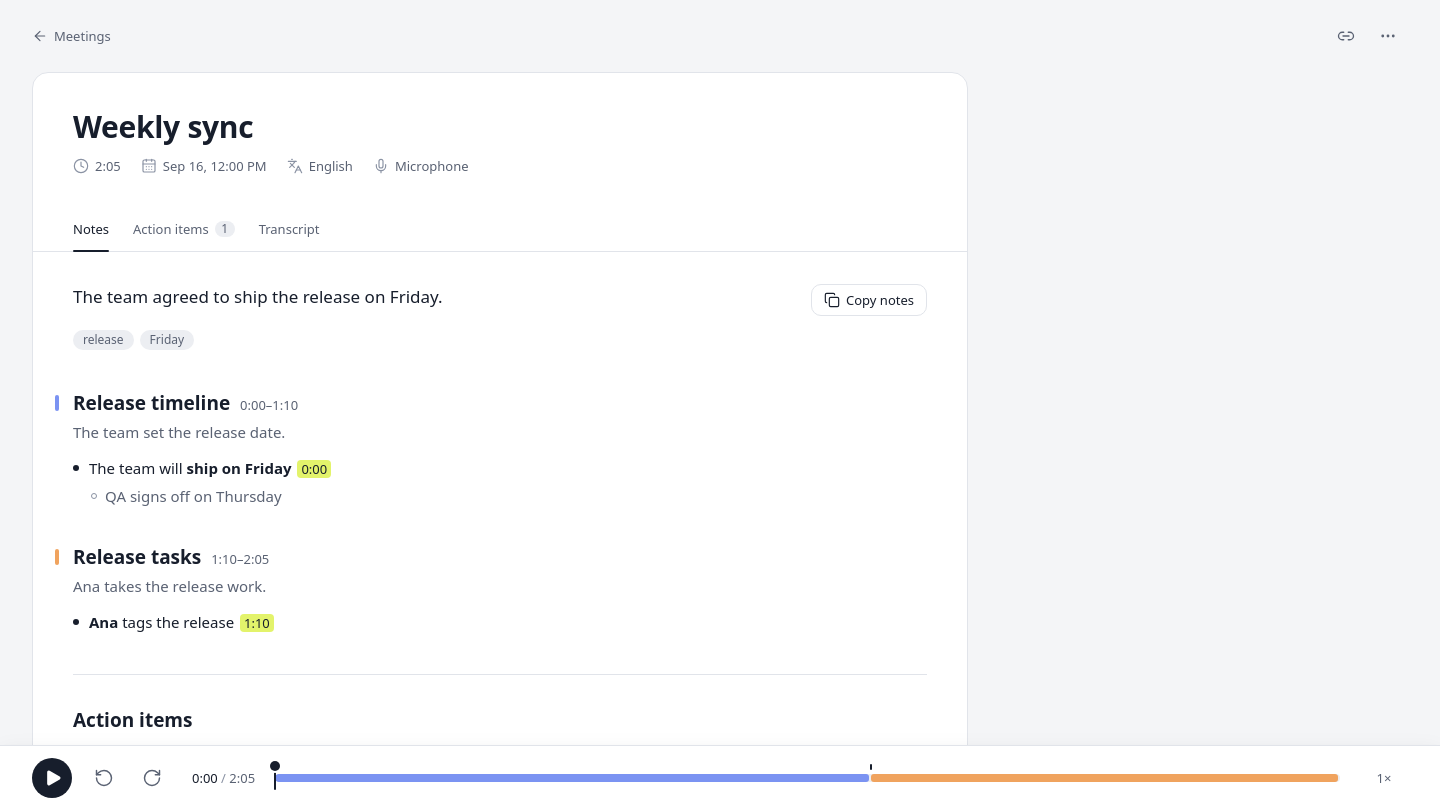
Scenario: MeetingPage › delete › shows a failed delete and stays on the page
Click the button named "More actions".
click(1388, 36)  # box [1368,16,1408,56]
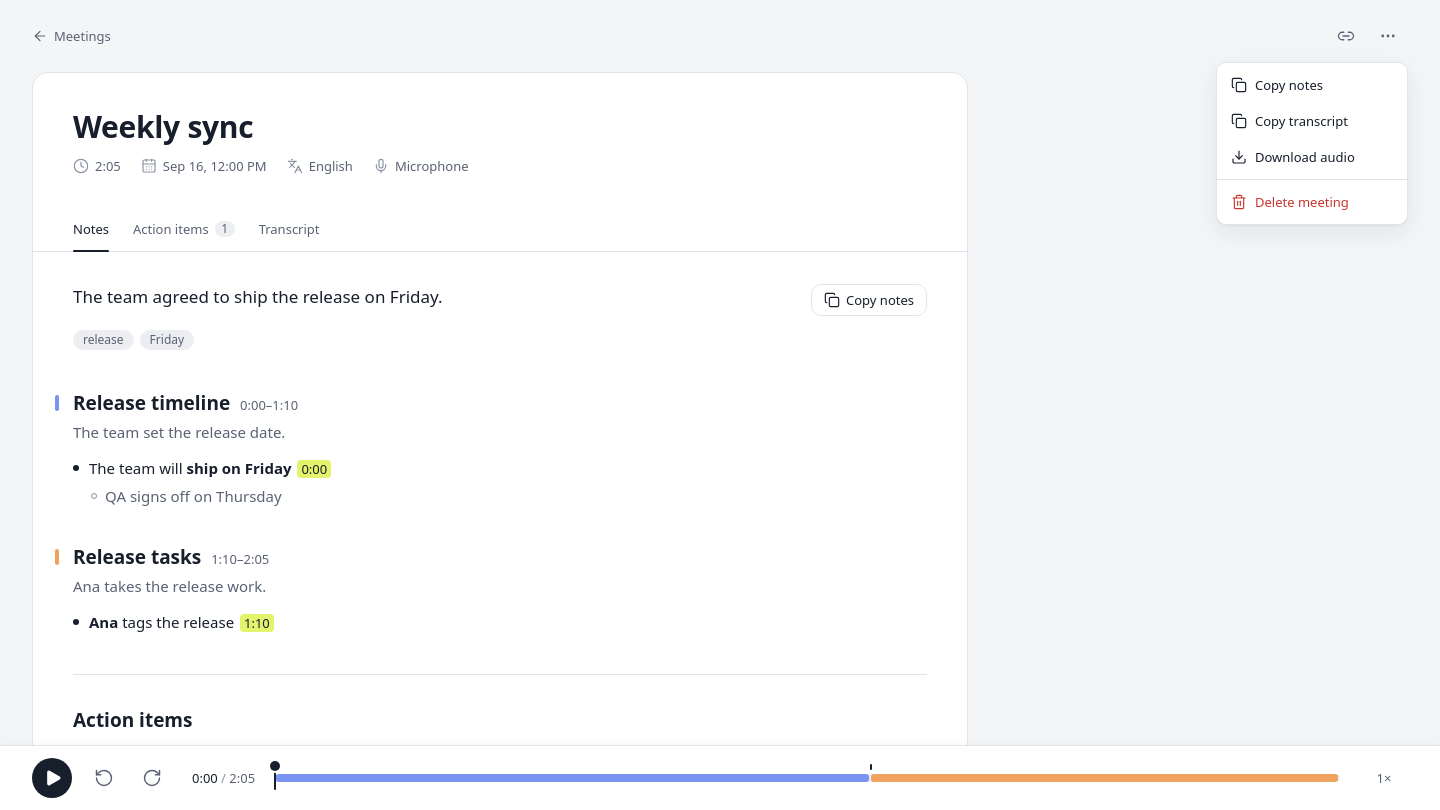
Click the menu item "Delete meeting".
click(1290, 202)  # box [1231,193,1349,211]
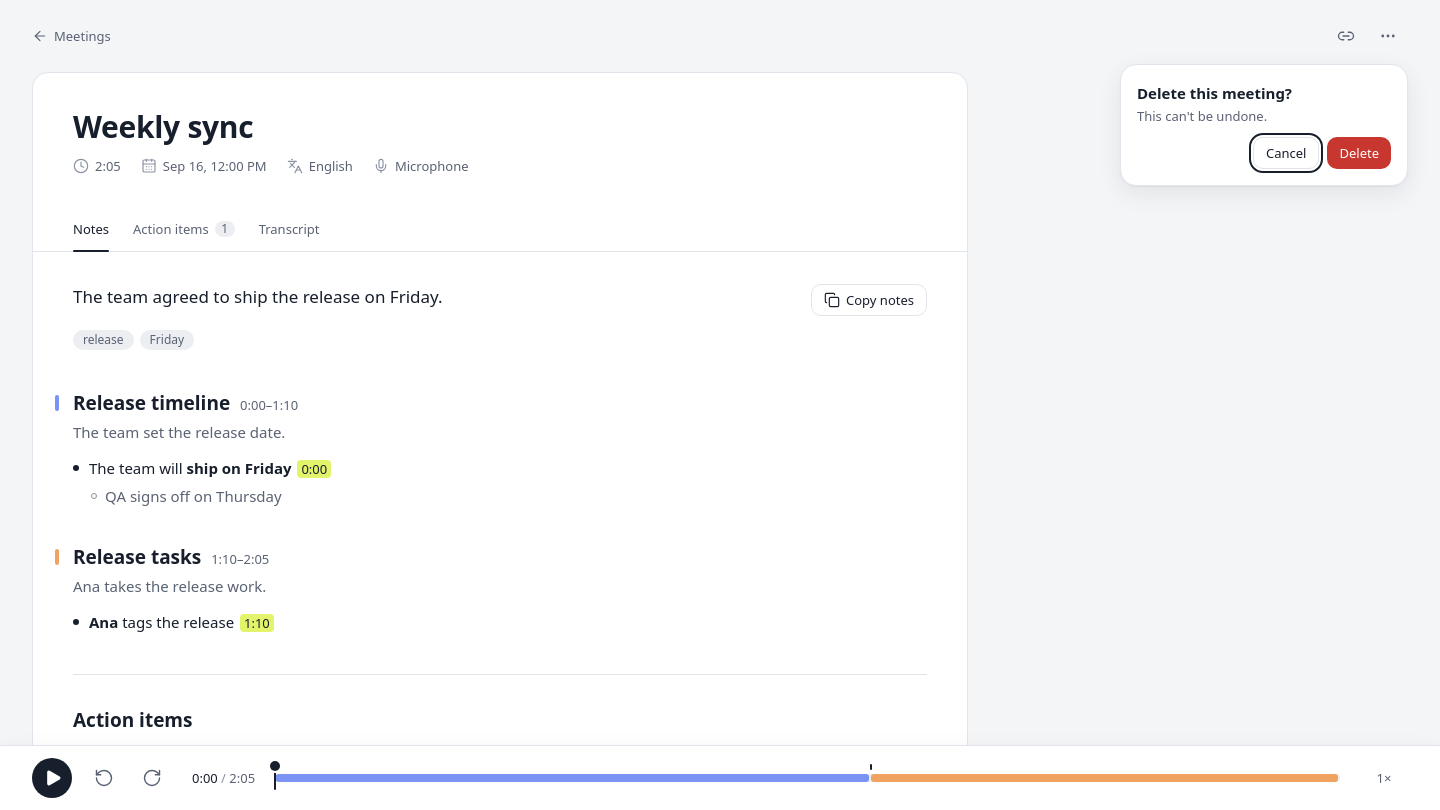
Click the button "Delete".
click(1359, 153)  # box [1328,137,1391,169]
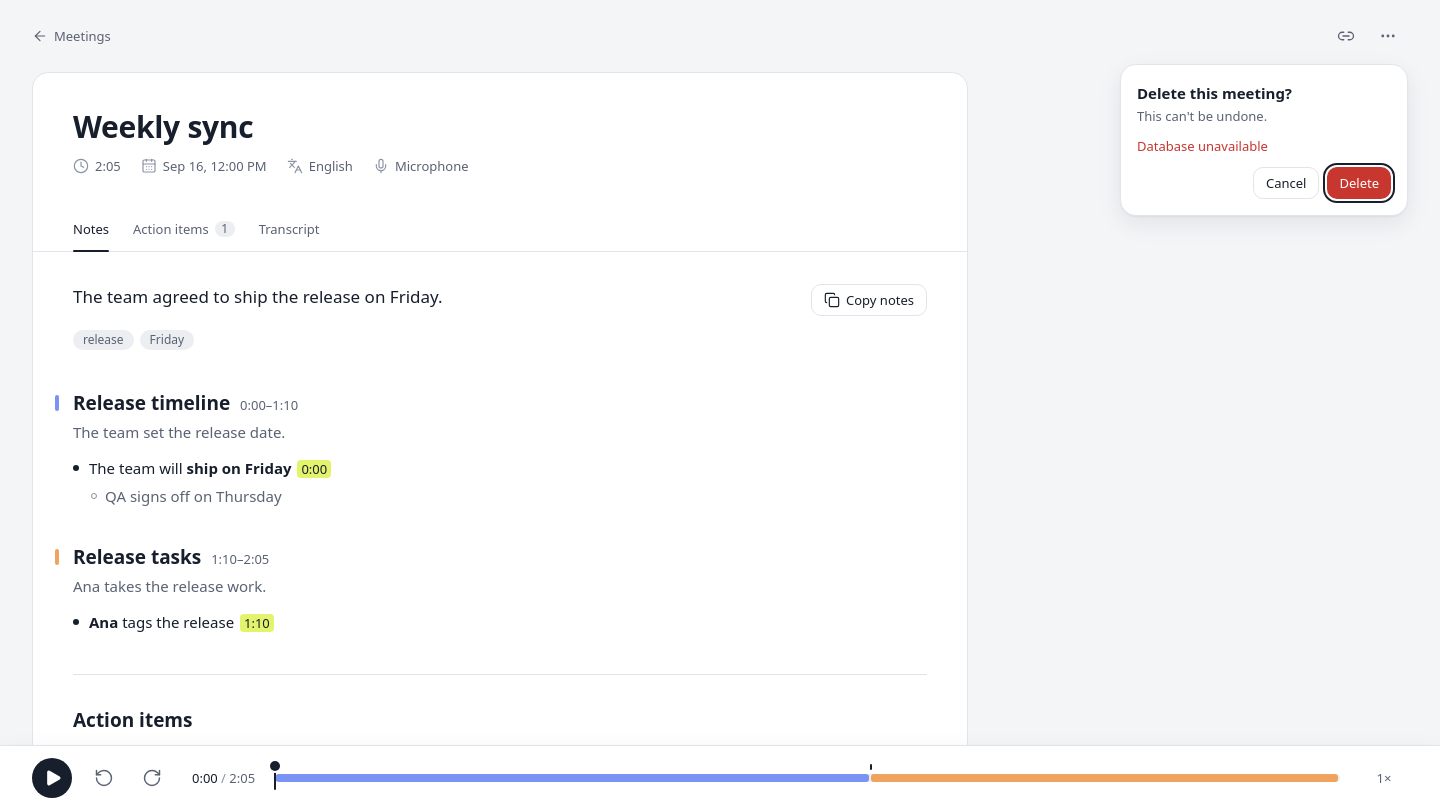
Expected: the message reads "Database unavailable", [1137,137,1268,155]
